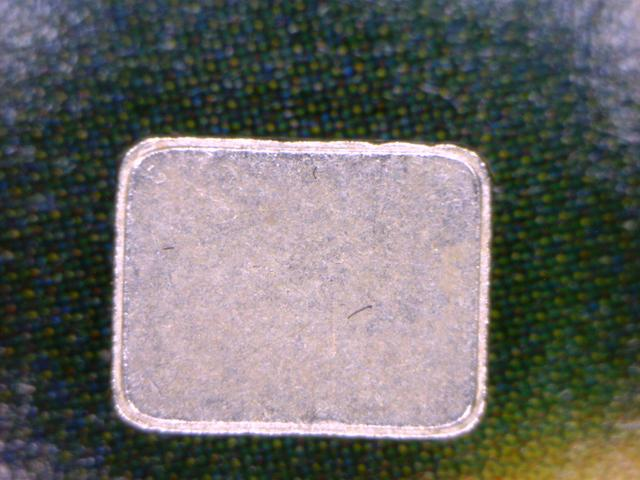nok: (104, 130, 496, 444)
